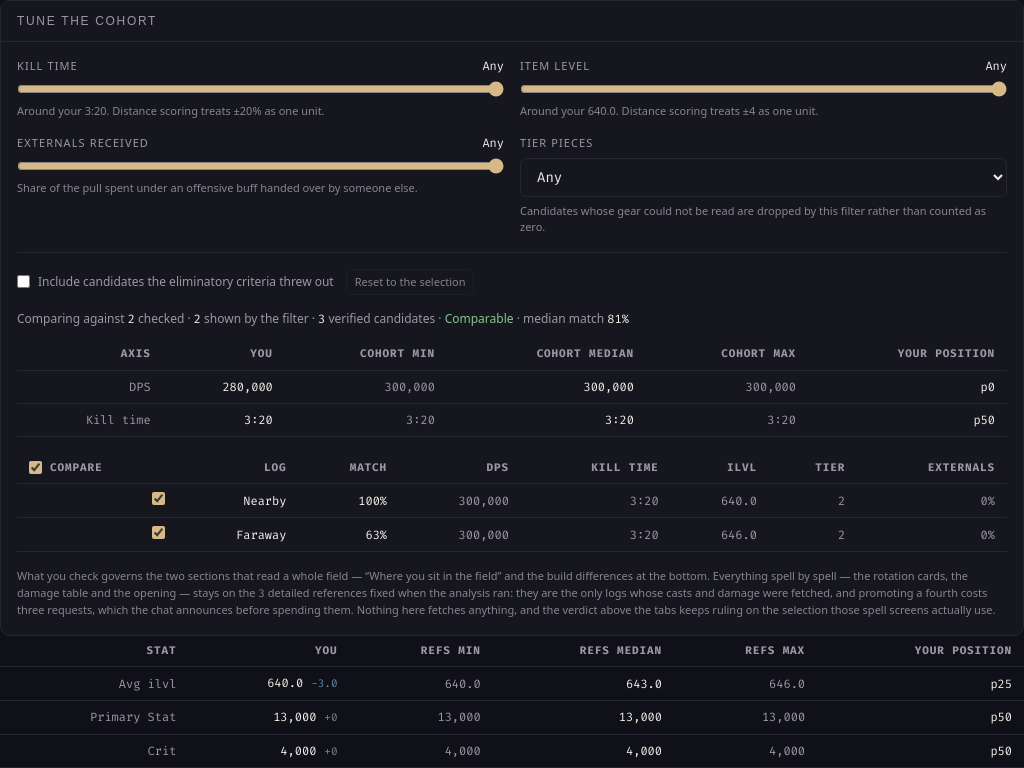
cohortFilterPanel › takes the disqualified back in when they are asked for, and counts one that is checked
This screenshot has width=1024, height=768.
Click the checkbox labelled "Include candidates the eliminatory criteria threw out": (24, 282) [17,275,30,288]
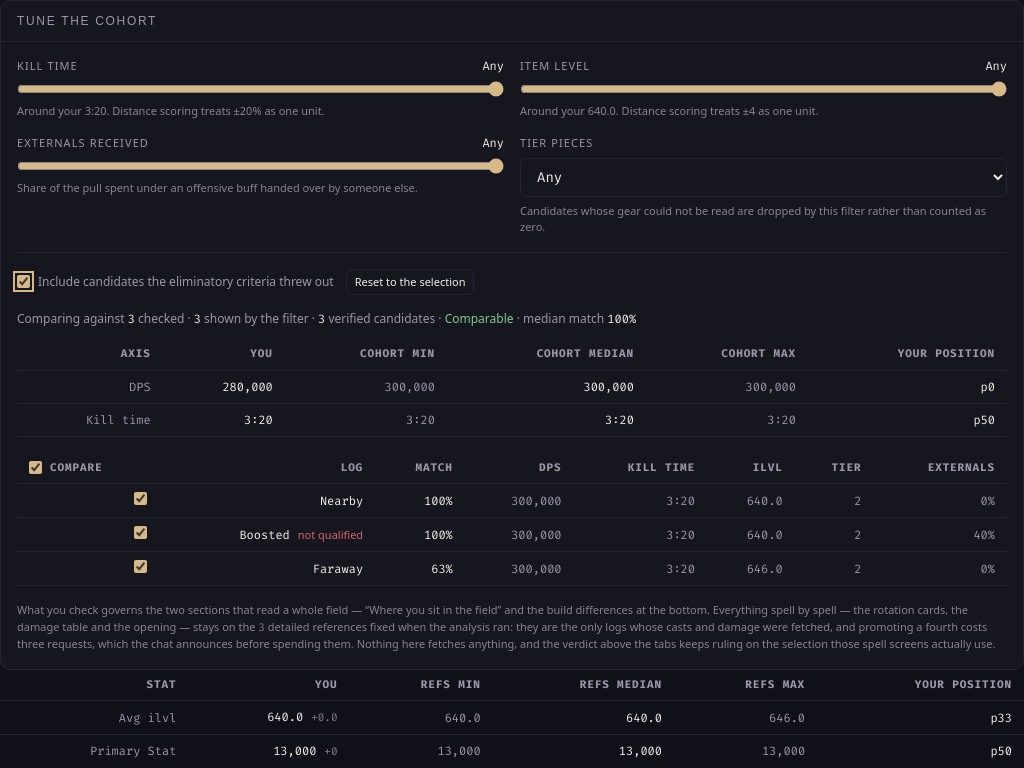
Check: the row "Boosted" shows "not qualified", box [298,527,363,542]
Check: the checkbox named "compare against boosted" is checked, box [134,526,147,539]
Click the button "Reset to the selection": (410, 282) [346,268,474,295]
(page scrolled)
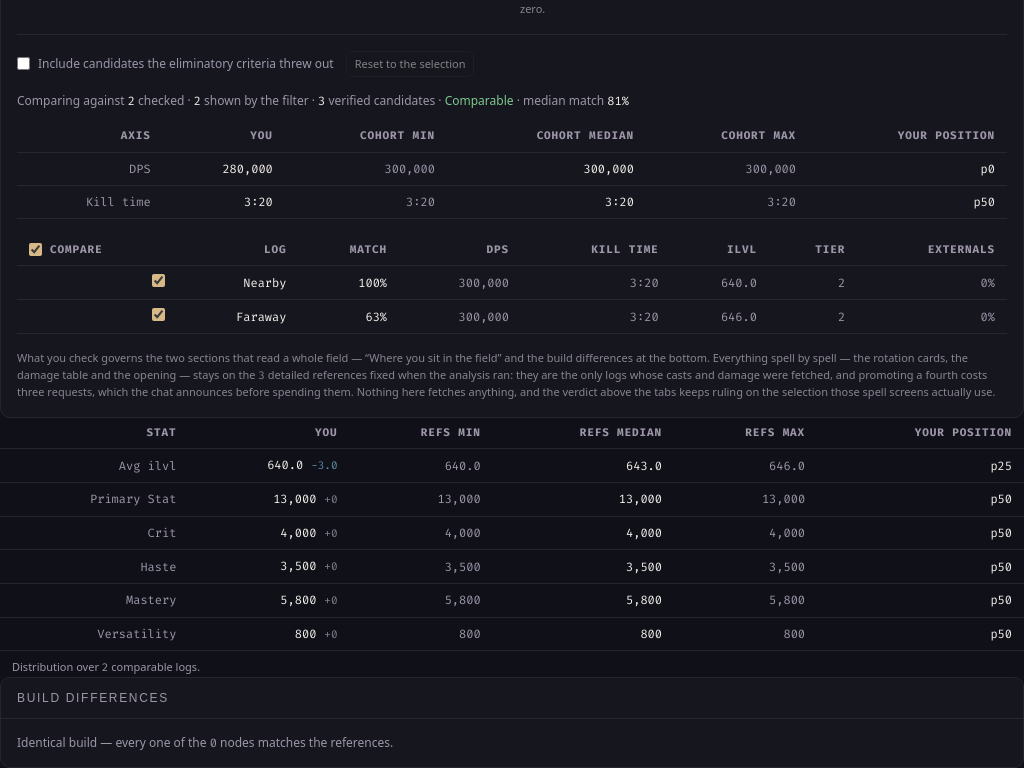
Check: the cell "Boosted" is gone
Check: the text "Distribution over 2 comparable logs." is shown, box [12,659,200,675]
